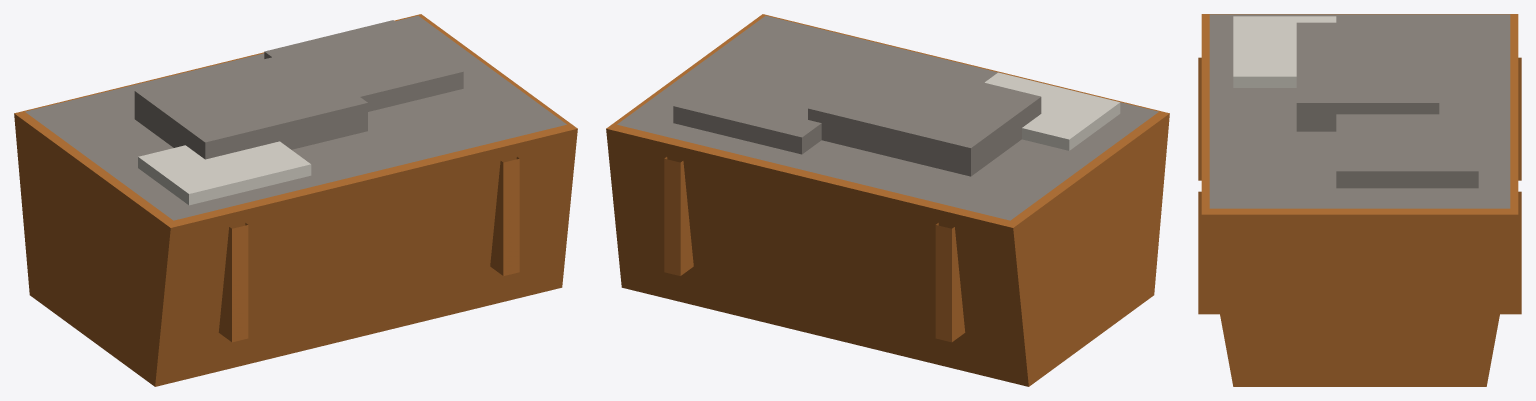
Rendered from skip.gltf.
The picture shows the model from 3 angles, left to right: view 1: azimuth 30°, elevation 25°; view 2: azimuth 150°, elevation 25°; view 3: azimuth 270°, elevation 25°; orthographic projection.
Visible parts, largest first — view 1: Mesh; view 2: Mesh; view 3: Mesh.
Boxes of the visible parts, box(x1,y1,x2,y2) form: Mesh: box(14, 14, 577, 386); Mesh: box(606, 14, 1169, 386); Mesh: box(1198, 14, 1521, 386).
Size of what is drawn, in the model's own units: 3 by 1.42 by 2.04.
